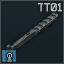AK Taktika Tula TT01 rear sight Weaver adapter: (0, 0, 64, 64)
